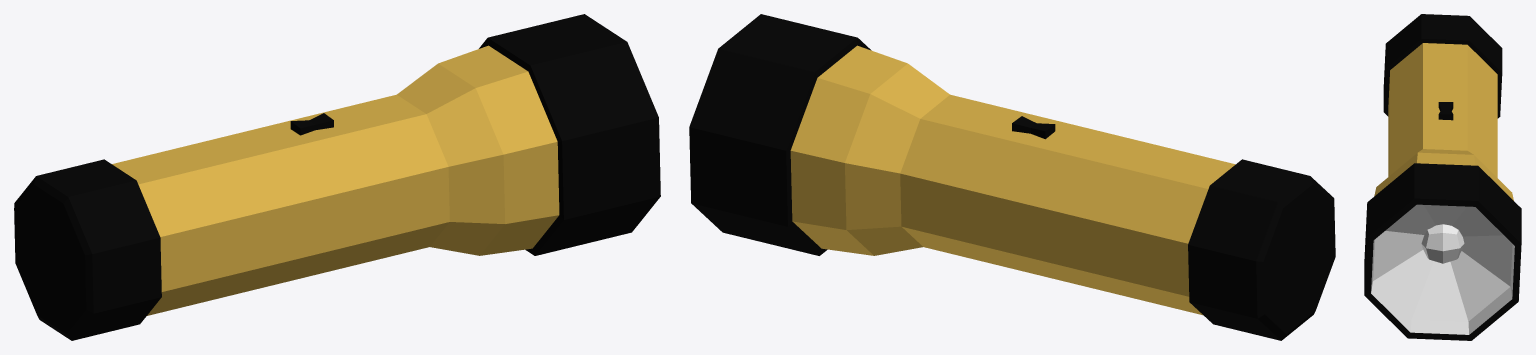
File: Flashlight.fbx
3 views of the same model, side by side, from view 1: azimuth 30°, elevation 25°; view 2: azimuth 150°, elevation 25°; view 3: azimuth 270°, elevation 25° (orthographic). The views are drawn at different scales.
Parts seen in each view (by area): view 1: Flashlight; view 2: Flashlight; view 3: Flashlight.
Part boxes in pixels (left/top/right/bottom): Flashlight: left=14, top=14, right=660, bottom=340; Flashlight: left=689, top=14, right=1335, bottom=340; Flashlight: left=1364, top=14, right=1521, bottom=340.
Bounding box in the file's own units: 571 × 186 × 186.
